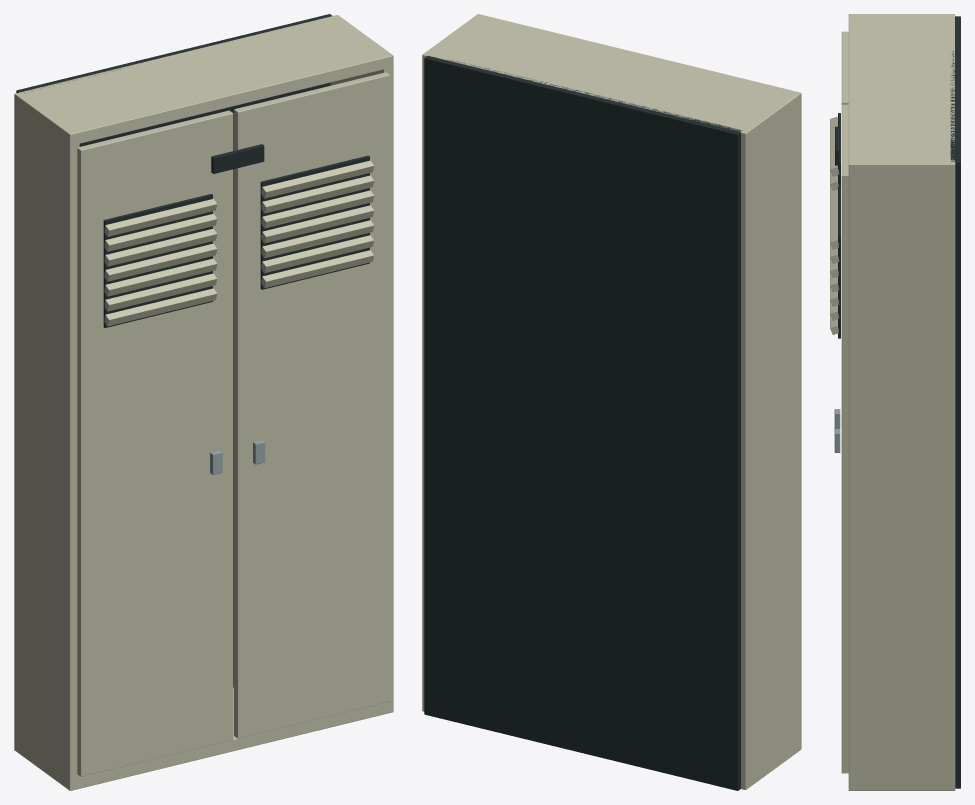
The picture shows the model from 3 angles, left to right: view 1: azimuth 30°, elevation 25°; view 2: azimuth 150°, elevation 25°; view 3: azimuth 270°, elevation 25°; orthographic projection. The views are drawn at different scales.
Visible parts, largest first — view 1: DOOR_Panel, DOOR_Panel.001, CABINET_Side.001, CABINET_Cap, CABINET_Cap.001, CABINET_Side, VENT_Recess, VENT_Recess.001, CABINET_Back, VENT_Slat, VENT_Slat.001, VENT_Slat.011 (+12 smaller); view 2: CABINET_Back, CABINET_Side.001, CABINET_Cap, CABINET_Side; view 3: CABINET_Side, CABINET_Cap, DOOR_Panel.001, CABINET_Back, DOOR_Panel, VENT_Slat.013, VENT_Recess.001, VENT_Slat.006, CABINET_Side.001.
Part boxes in pixels (x1=…): DOOR_Panel: x1=77, y1=110, x2=233, y2=776; DOOR_Panel.001: x1=234, y1=72, x2=390, y2=738; CABINET_Side.001: x1=14, y1=92, x2=79, y2=790; CABINET_Cap: x1=20, y1=16, x2=388, y2=143; CABINET_Cap.001: x1=75, y1=687, x2=388, y2=789; CABINET_Side: x1=330, y1=15, x2=393, y2=713; VENT_Recess: x1=103, y1=194, x2=212, y2=327; VENT_Recess.001: x1=260, y1=155, x2=369, y2=289; CABINET_Back: x1=16, y1=14, x2=332, y2=687; VENT_Slat: x1=104, y1=288, x2=217, y2=326; VENT_Slat.001: x1=104, y1=273, x2=217, y2=311; VENT_Slat.011: x1=261, y1=190, x2=374, y2=228; CABINET_Back: x1=424, y1=56, x2=742, y2=790; CABINET_Side.001: x1=739, y1=90, x2=801, y2=789; CABINET_Cap: x1=428, y1=15, x2=794, y2=130; CABINET_Side: x1=422, y1=14, x2=482, y2=711; CABINET_Side: x1=848, y1=160, x2=955, y2=790; CABINET_Cap: x1=848, y1=16, x2=954, y2=161; DOOR_Panel.001: x1=841, y1=104, x2=848, y2=773; CABINET_Back: x1=950, y1=16, x2=960, y2=788; DOOR_Panel: x1=841, y1=31, x2=848, y2=104; VENT_Slat.013: x1=830, y1=190, x2=838, y2=249; VENT_Recess.001: x1=838, y1=186, x2=840, y2=338; VENT_Slat.006: x1=830, y1=116, x2=839, y2=176; CABINET_Side.001: x1=848, y1=14, x2=955, y2=16.
Bounding box in the file's own units: 1.14 × 2.2 × 0.4167.
